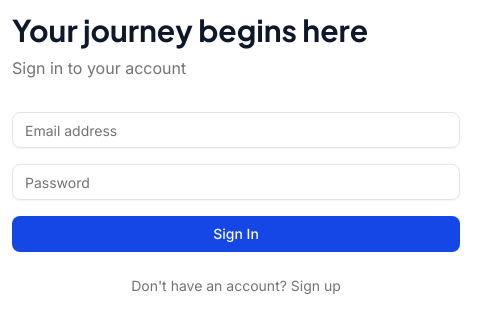
Test: LoginPage › shows validation error for invalid email
In the field with placeholder "Email address": coordinates (236, 130) [12,112,460,148], type "not-an-email"
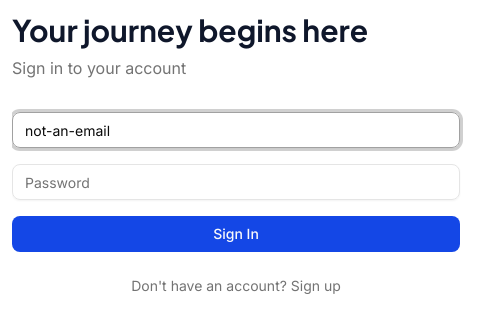
In the password field with placeholder "Password": coordinates (236, 182) [12,164,460,200], type "password123"
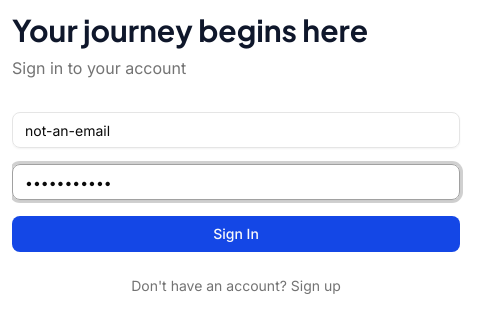
Click the button "Sign In": coordinates (236, 234) [12,216,460,252]
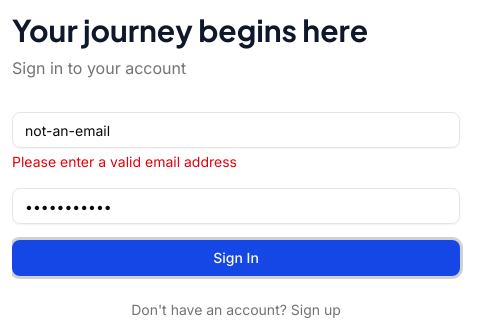
Now the text "Please enter a valid email address" is shown, box [12,153,237,170]
